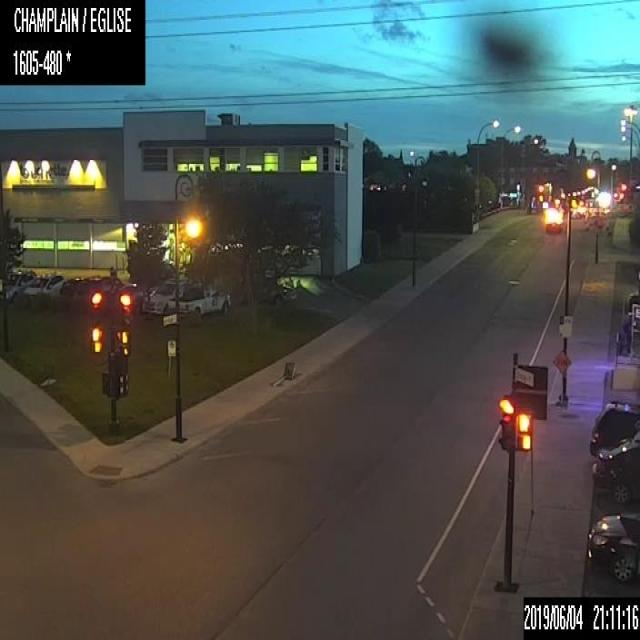construction: (552, 348, 571, 406), (270, 361, 295, 388), (39, 362, 56, 386), (591, 214, 605, 232)
vehicle: (586, 510, 639, 582), (591, 436, 639, 504), (589, 400, 639, 456), (167, 286, 231, 313), (73, 274, 124, 306), (142, 278, 188, 312), (116, 282, 156, 308), (5, 268, 36, 300), (23, 274, 66, 297), (59, 275, 86, 298), (545, 212, 561, 232)
